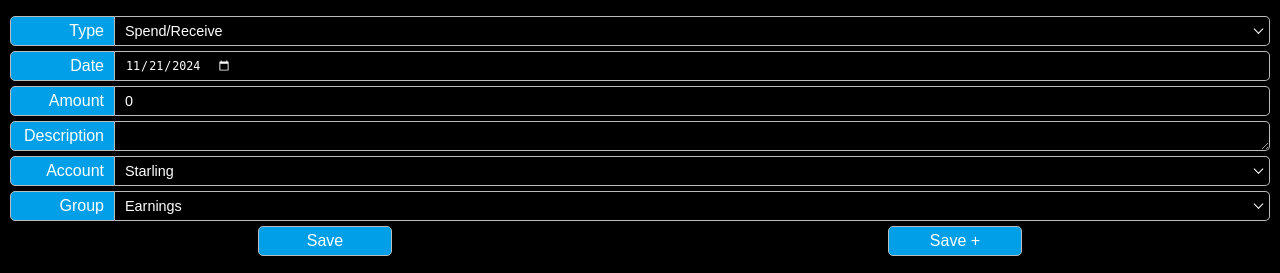
Displays the correct fields for a Fund Addition
The image size is (1280, 273).
// change to Fund Addition form
Select "Add to Fund" in the dropdown labelled "Type": (62, 31) left=10, top=16, right=115, bottom=46
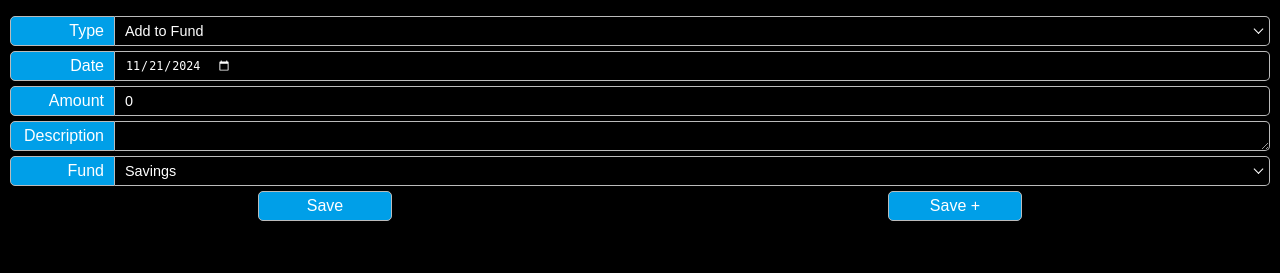
expect the text "Description" is shown: met, box left=10, top=121, right=115, bottom=151
expect the text "Fund" is shown: met, box left=10, top=156, right=115, bottom=186
